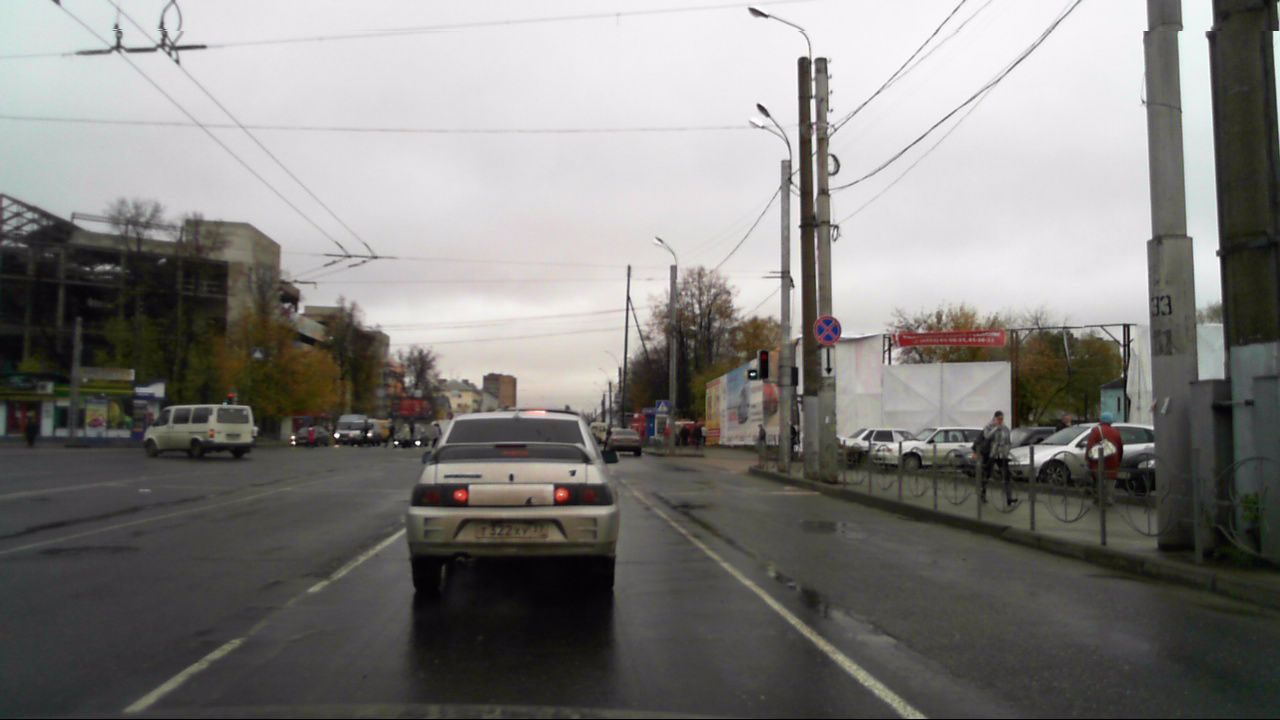No Parking: (812, 315, 841, 347)
